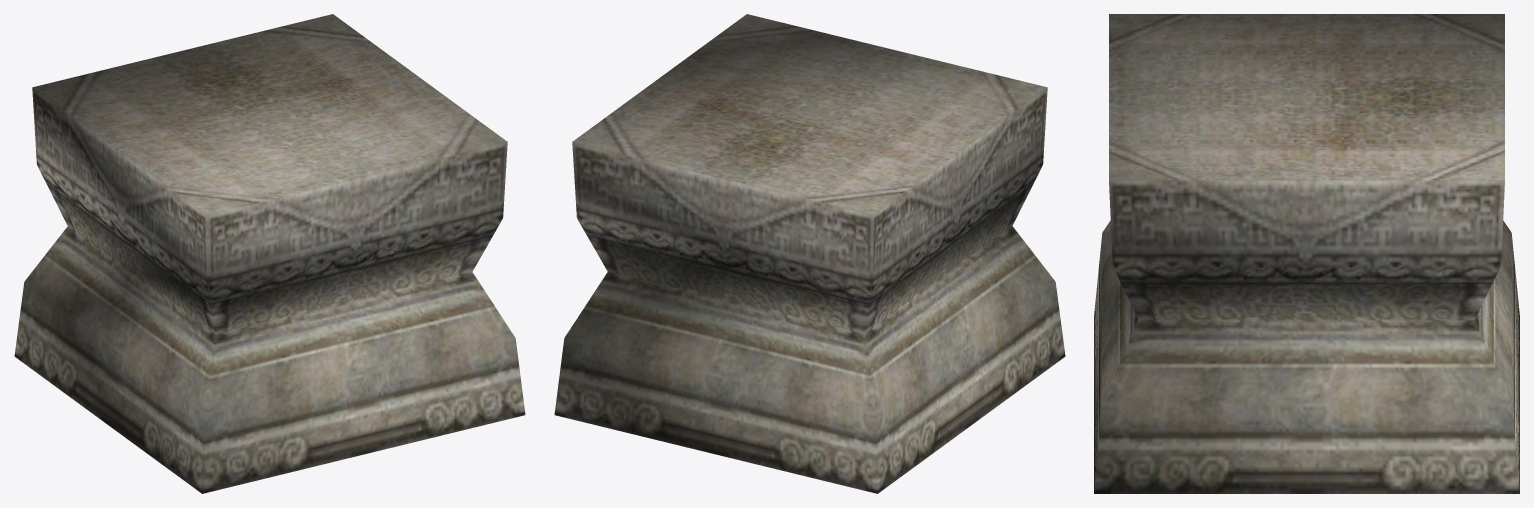
The model's file is cj3_lion_dan.glb.
3 views of the same model, side by side, from view 1: azimuth 30°, elevation 25°; view 2: azimuth 150°, elevation 25°; view 3: azimuth 270°, elevation 25° (orthographic). The views are drawn at different scales.
Parts seen in each view (by area): view 1: CJ3_lion_dan01; view 2: CJ3_lion_dan01; view 3: CJ3_lion_dan01.
Part boxes in pixels (x1,y1,x2,y2): CJ3_lion_dan01: (14, 14, 525, 493); CJ3_lion_dan01: (554, 14, 1065, 493); CJ3_lion_dan01: (1094, 14, 1519, 493).
Size of the model in its own units: 2.89 by 2.32 by 2.91.
Materials: 1 (1 with a texture image).
